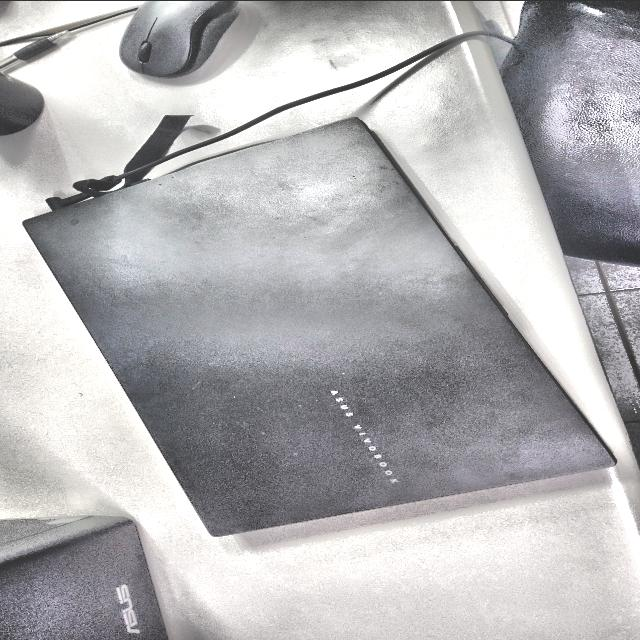Laptop: (23, 116, 615, 536)
MOUSE: (120, 0, 240, 77)
